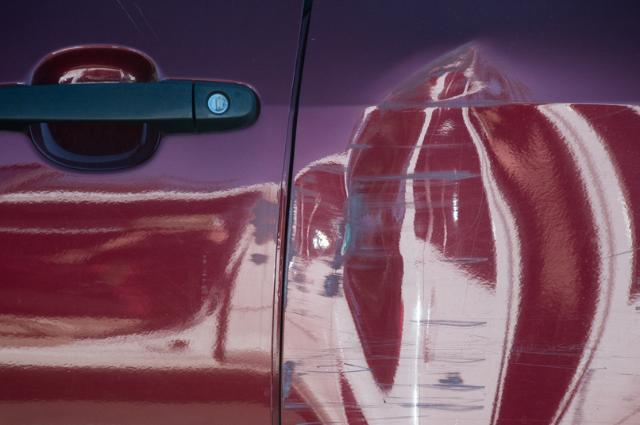Fender: (278, 29, 640, 425)
